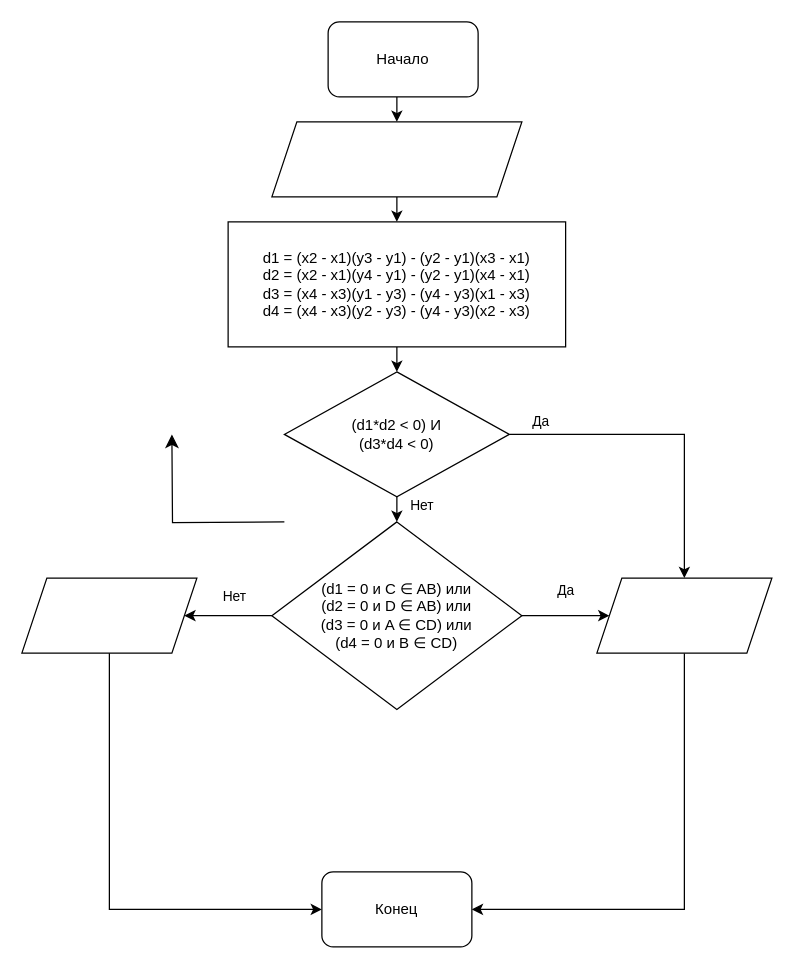
This 794x969 diagram has some shape labels left out. Each missing label, with the centre of its shape:
"Ввод: A(x1,y1), B(x2,y2), C(x3,y3), D(x4,y4)" belongs at pixel 396 159.
"Не пересекаются" belongs at pixel 109 615.
"Пересекаются" belongs at pixel 684 615.
